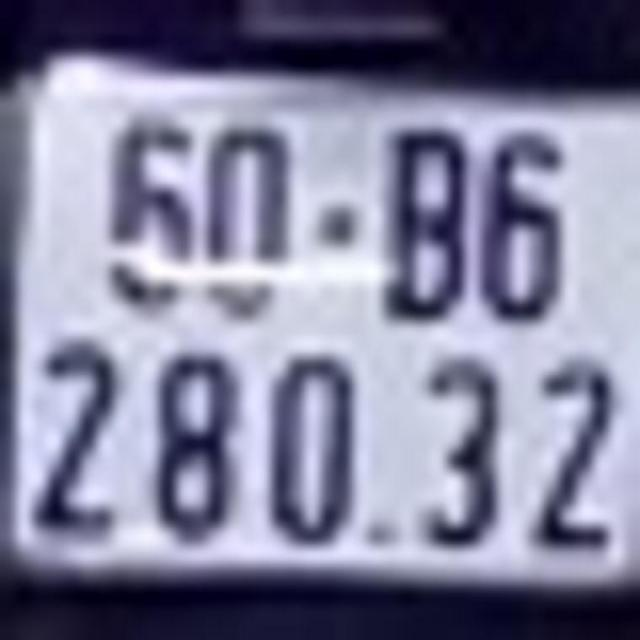0: (261, 343, 355, 547), (200, 119, 290, 328)
2: (24, 328, 119, 533), (531, 352, 617, 554)
3: (415, 342, 506, 548)
5: (105, 115, 195, 319)
6: (483, 117, 569, 328)
8: (147, 353, 233, 553)
B: (388, 126, 475, 324)
